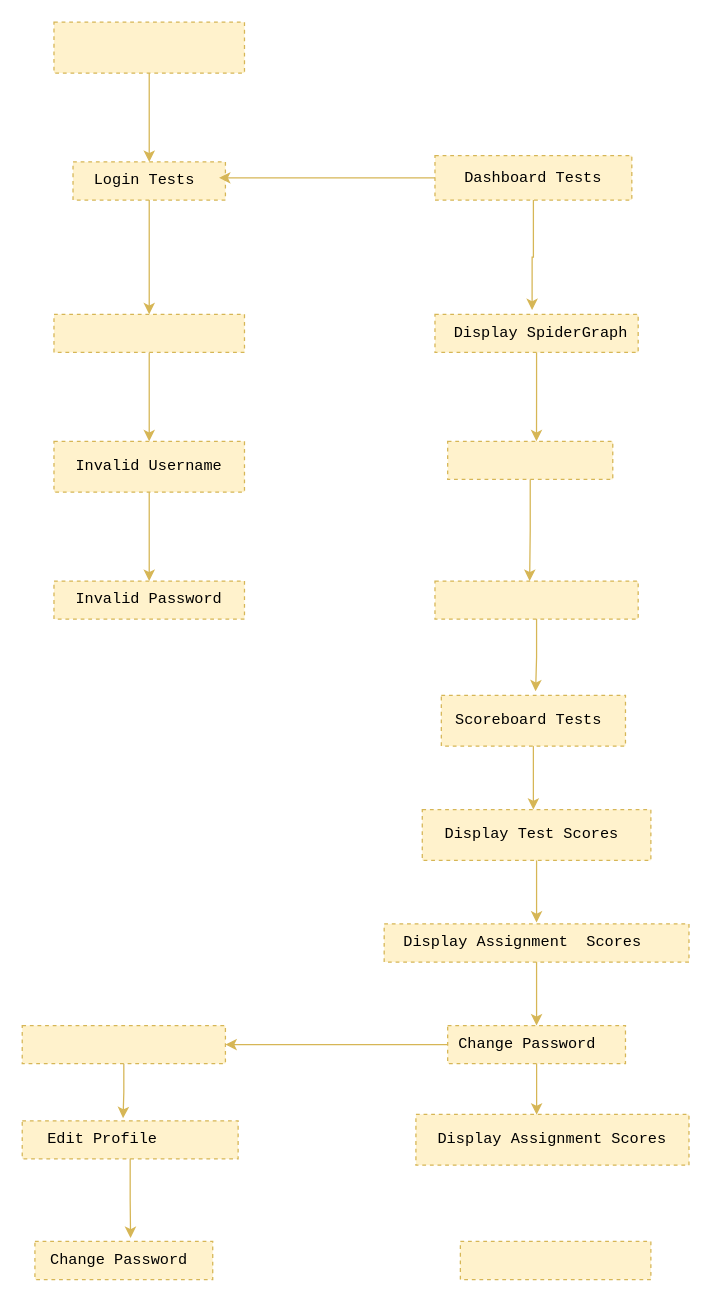
The diagram is 711 pixels wide and 1307 high, and some of its shapes have lost their labels. The centre of each missing label's shape, as x and y in pixels:
Display Batch Rank: the point at 536,599
Display DPI: the point at 529,459
Invalid Old Pass: the point at 555,1260
Profile Tests: the point at 123,1044
Test Scenarios: the point at 148,47
Valid Credentials: the point at 148,332
